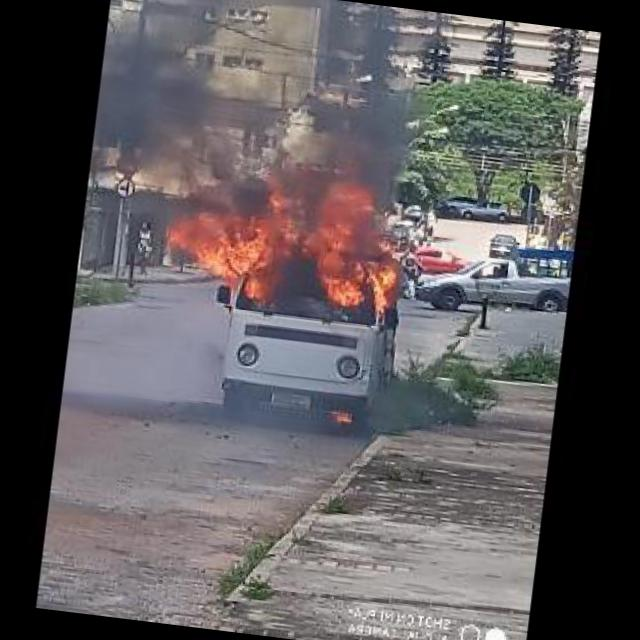fire: (165, 164, 306, 297), (298, 184, 410, 316), (330, 406, 350, 424)
smoke: (82, 0, 286, 251), (308, 47, 432, 207)
